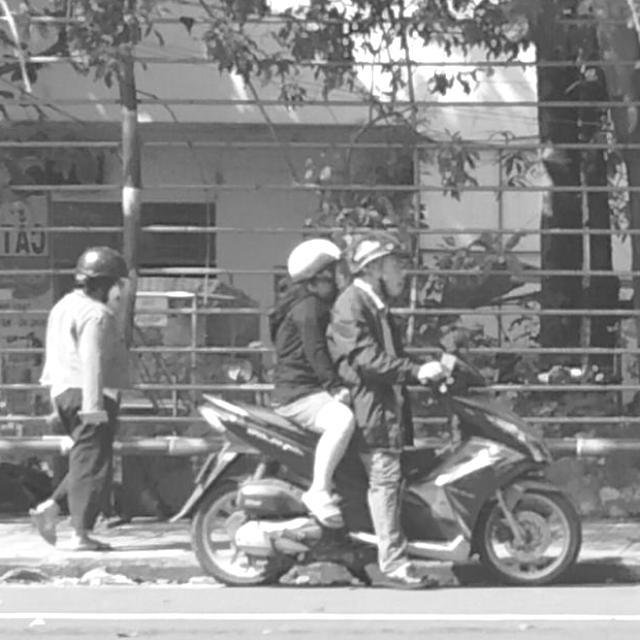Helmet: (346, 221, 414, 301), (278, 230, 348, 292), (68, 239, 134, 302)
